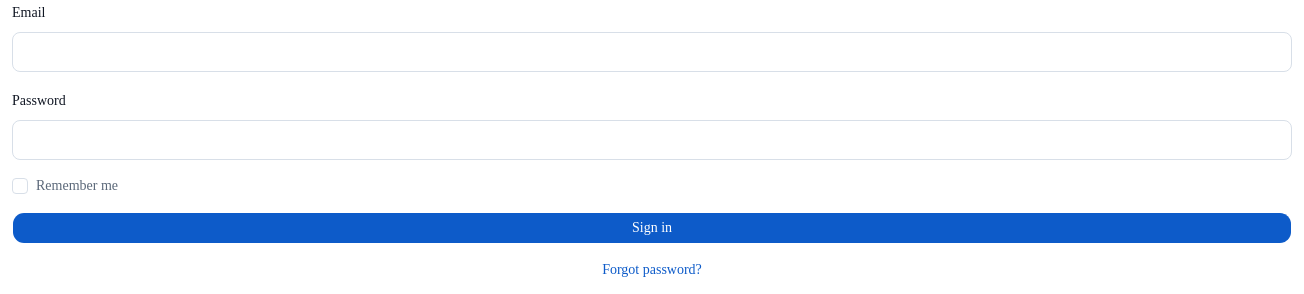
LoginForm feature › disables submit while the login request is pending
The image size is (1304, 294).
Type "person@example.com" into the field labelled "Email".
click(652, 52); type("person@example.com")  # box [12,32,1292,72]
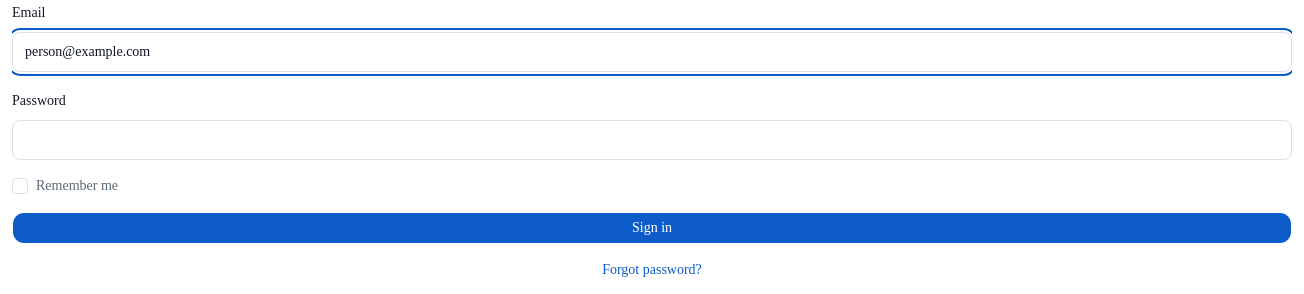
Type "password123" into the password field labelled "Password".
click(652, 140); type("password123")  # box [12,120,1292,160]
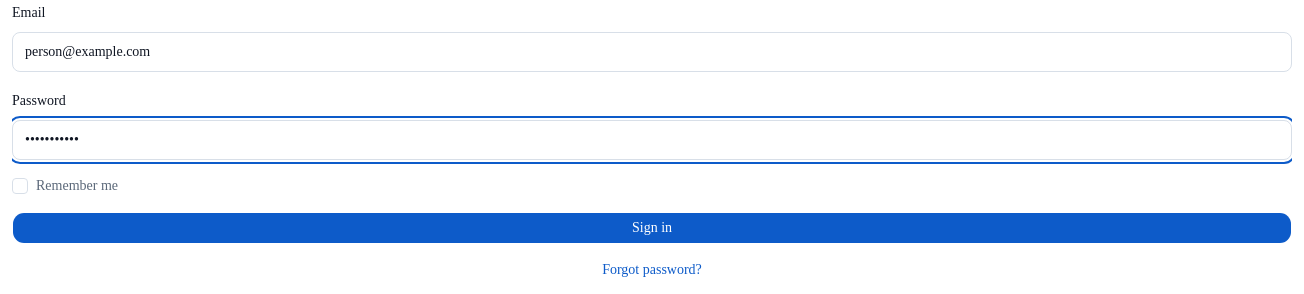
Click the button "Sign in".
click(652, 228)  # box [12,212,1292,244]
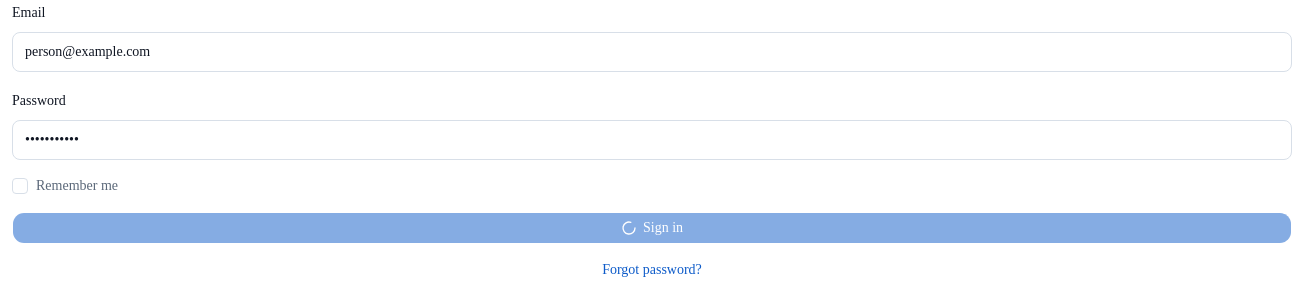
Expected: the button "Sign in" is disabled, [12,212,1292,244]
